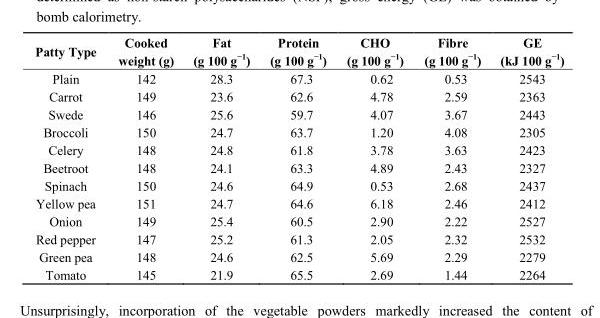table: (34, 34, 563, 281)
table column: (335, 34, 413, 281), (182, 34, 259, 281), (106, 34, 182, 281), (259, 34, 335, 281), (413, 34, 489, 281), (489, 34, 563, 281), (34, 34, 106, 281)
table column header: (34, 34, 563, 69)
table row: (34, 34, 563, 69), (34, 69, 563, 87), (34, 87, 563, 105), (34, 122, 563, 140), (34, 140, 563, 158), (34, 158, 563, 176), (34, 176, 563, 194), (34, 194, 563, 212), (34, 229, 563, 247), (34, 247, 563, 265), (34, 105, 563, 122), (34, 212, 563, 229), (34, 265, 563, 281)
